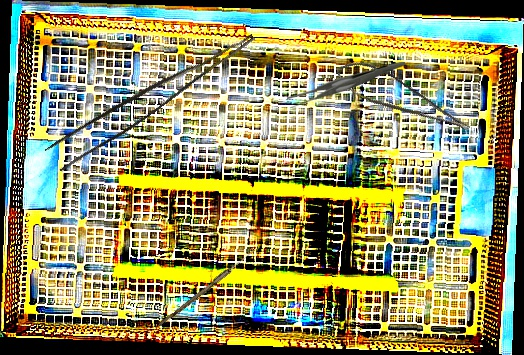Dressing Forceps: (286, 61, 406, 109)
Micro Scissor: (330, 48, 474, 155)
Surgical Spoon: (158, 247, 256, 329)
Tissue Forceps: (44, 11, 256, 178)
